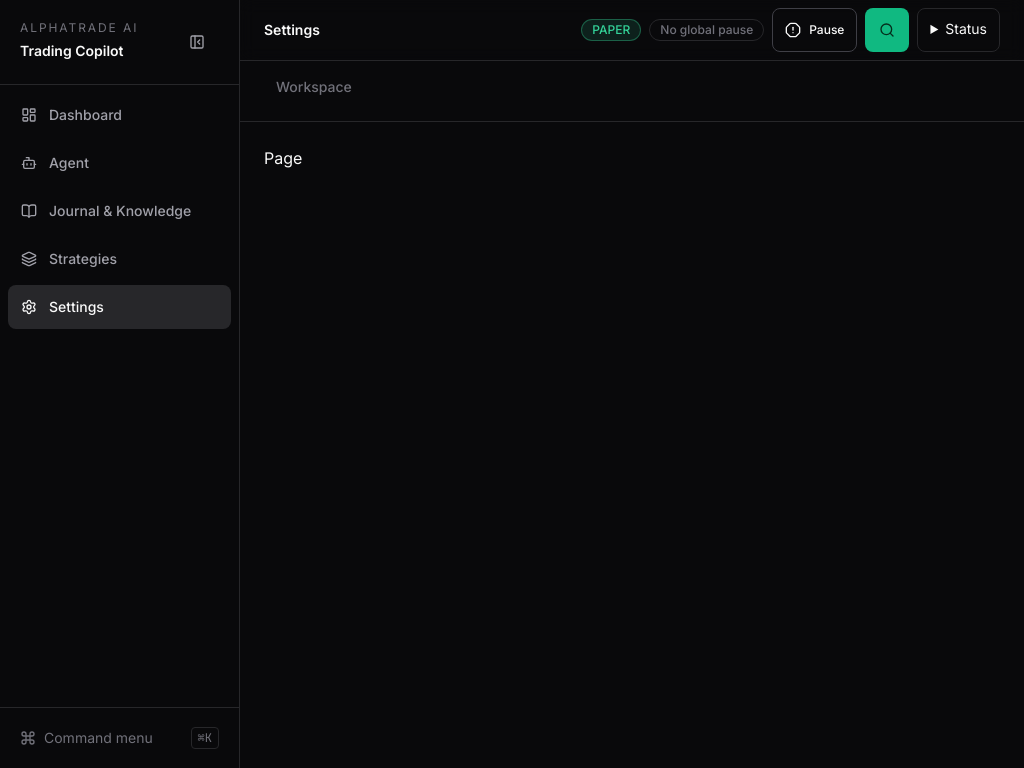
AT-040 Phase B AppShell › opens the command menu from the phone search control
Click the button named "Search pages and destinations": (887, 30) [865,8,909,52]
(page scrolled)
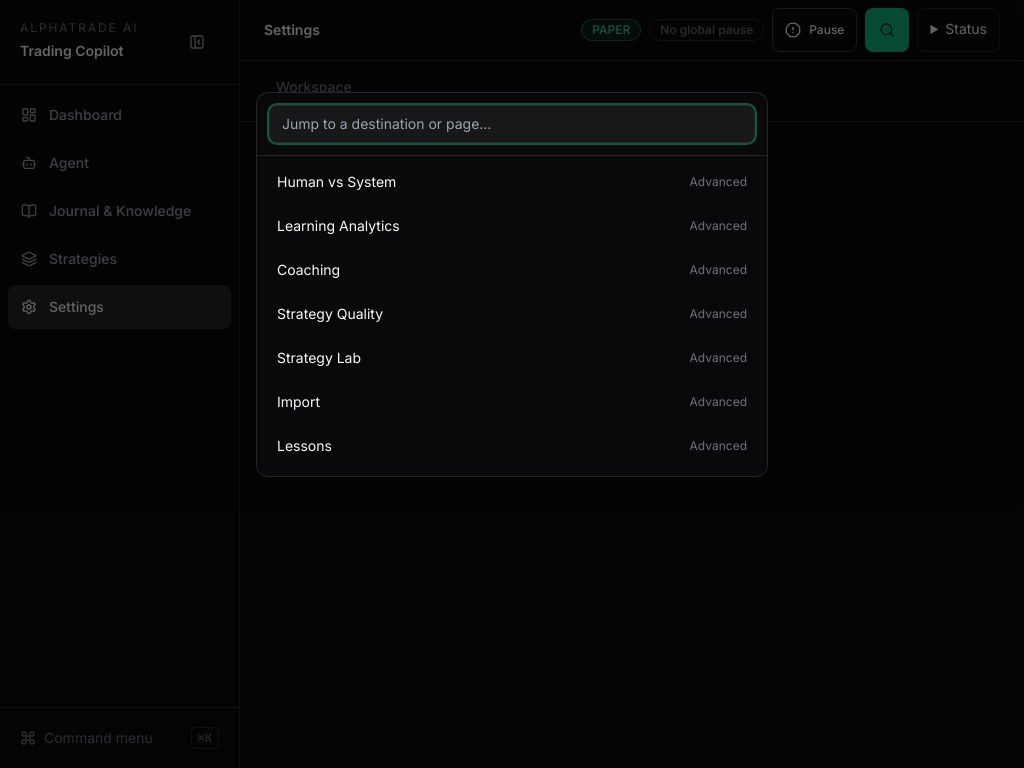
expect the element with test id "command-menu" is shown: met
expect the option "Strategy Lab Advanced" is shown: met, box [277,349,747,366]
